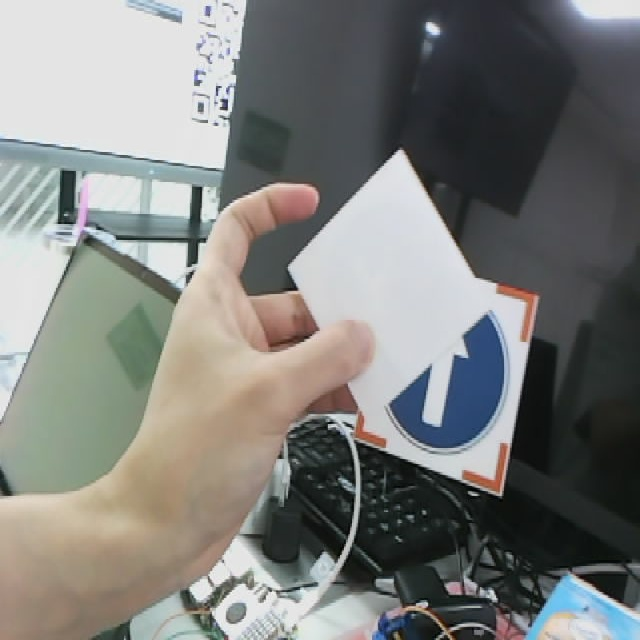strait: (347, 267, 543, 500)
